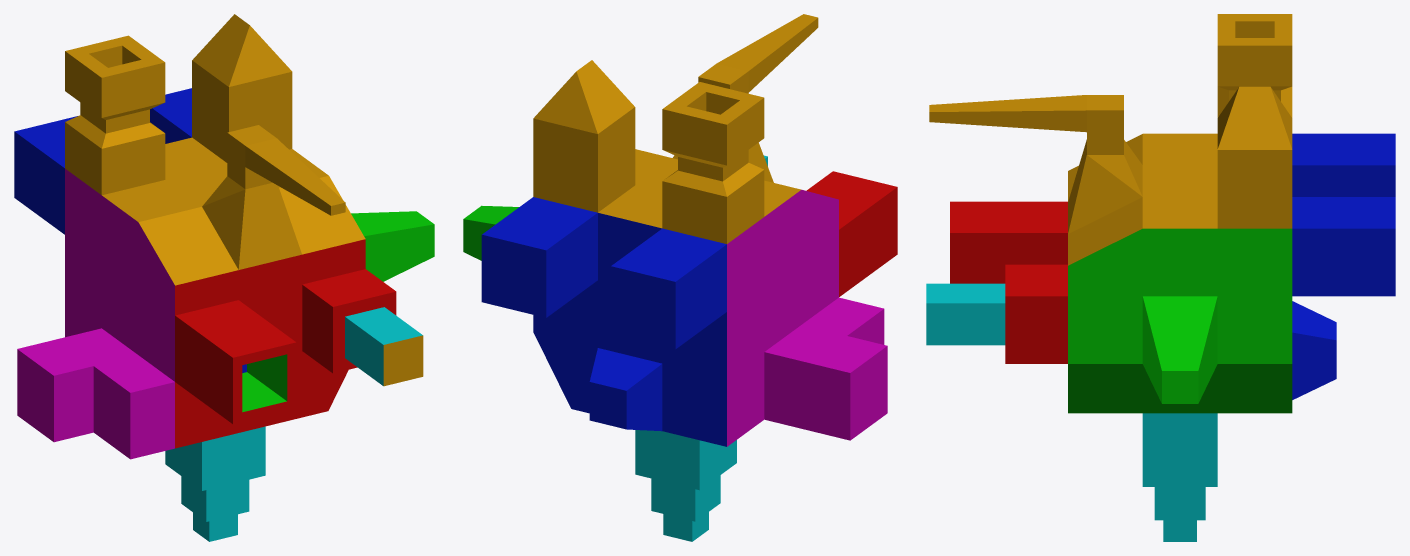
Rendered from cube2_tri_color.obj.
The picture shows the model from 3 angles, left to right: view 1: azimuth 30°, elevation 25°; view 2: azimuth 150°, elevation 25°; view 3: azimuth 270°, elevation 25°; orthographic projection.
Parts seen in each view (by area): view 1: Cube; view 2: Cube; view 3: Cube.
Part boxes in pixels (<box>): Cube: <box>14,14,434,541</box>; Cube: <box>463,14,897,541</box>; Cube: <box>926,14,1395,541</box>.
Bounding box in the file's own units: 1.64 × 1.89 × 1.67.
